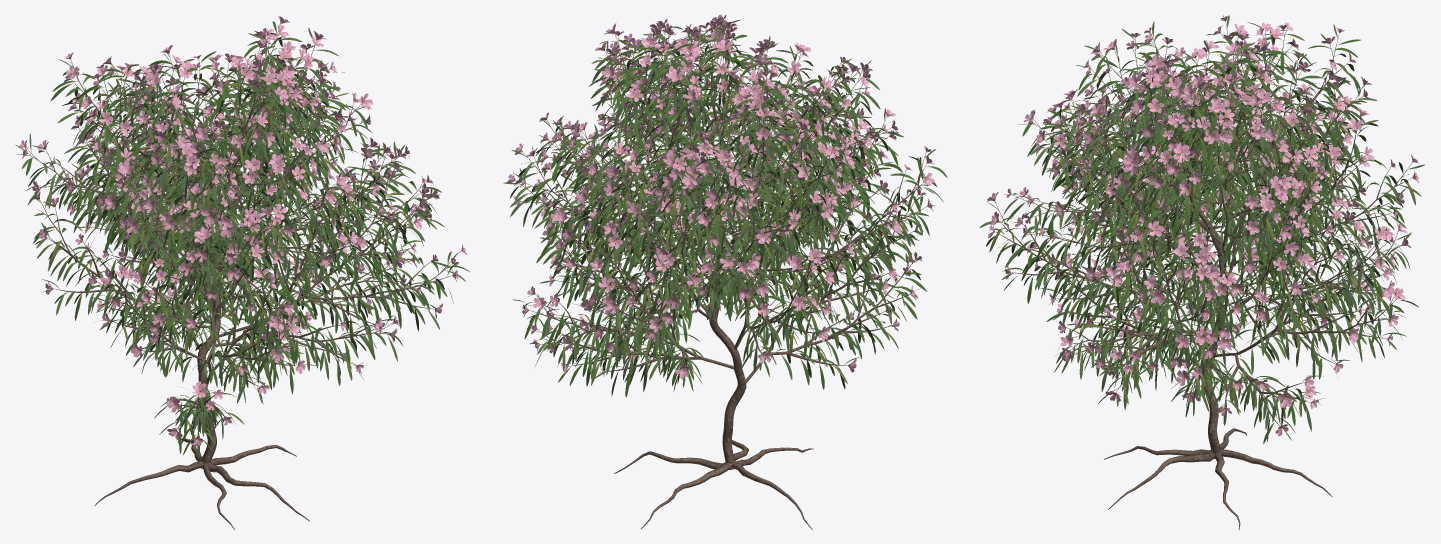
Rendered from FBX_BS09_NeriumOleander_6.fbx.
3 renders of one model, left to right at view 1: azimuth 30°, elevation 25°; view 2: azimuth 150°, elevation 25°; view 3: azimuth 270°, elevation 25°, orthographic. The views are drawn at different scales.
Visible parts, largest first — view 1: Leaf01_6, Flower02_6, Bark01_6; view 2: Leaf01_6, Flower02_6, Bark01_6; view 3: Leaf01_6, Flower02_6, Bark01_6.
Boxes of the visible parts, left/top/right/bottom form: Leaf01_6: left=15, top=19, right=470, bottom=454; Flower02_6: left=19, top=16, right=467, bottom=445; Bark01_6: left=26, top=24, right=460, bottom=529; Leaf01_6: left=503, top=15, right=947, bottom=397; Flower02_6: left=506, top=15, right=934, bottom=378; Bark01_6: left=516, top=24, right=926, bottom=529; Leaf01_6: left=979, top=15, right=1424, bottom=443; Flower02_6: left=987, top=16, right=1419, bottom=436; Bark01_6: left=995, top=21, right=1412, bottom=529.
Size of the model in its own units: 262 by 292 by 264.
